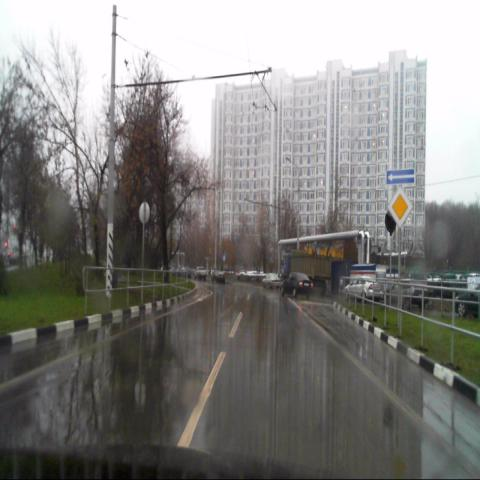5_7_2: (386, 170, 414, 185)
